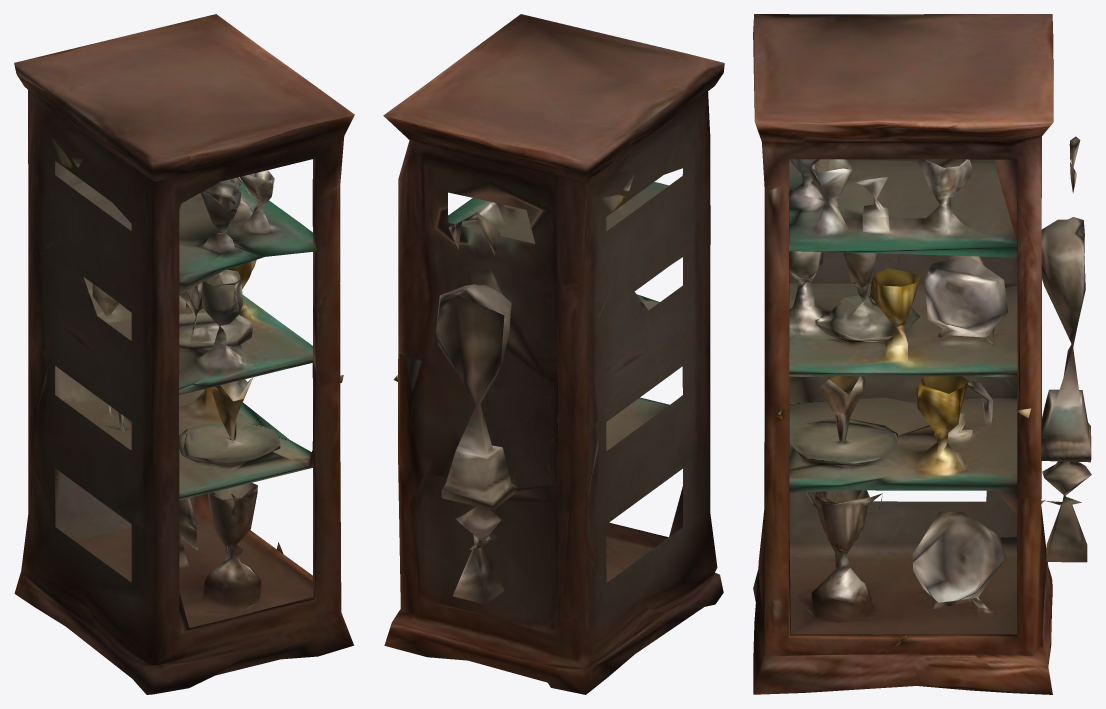
Rendered from innen_vitrine.glb.
3 renders of one model, left to right at view 1: azimuth 30°, elevation 25°; view 2: azimuth 150°, elevation 25°; view 3: azimuth 270°, elevation 25°, orthographic. The views are drawn at different scales.
Parts seen in each view (by area): view 1: tripo_node_3fdfc59f-6e2c-4cc5-b003-2c36a97e7040; view 2: tripo_node_3fdfc59f-6e2c-4cc5-b003-2c36a97e7040; view 3: tripo_node_3fdfc59f-6e2c-4cc5-b003-2c36a97e7040.
Boxes of the visible parts, x1,y1,x2,y2 form: tripo_node_3fdfc59f-6e2c-4cc5-b003-2c36a97e7040: [14, 14, 354, 694]; tripo_node_3fdfc59f-6e2c-4cc5-b003-2c36a97e7040: [383, 14, 724, 694]; tripo_node_3fdfc59f-6e2c-4cc5-b003-2c36a97e7040: [753, 14, 1091, 694].
Size of the model in its own units: 0.4006 by 0.9999 by 0.5285.
1 material, 1 textured.
